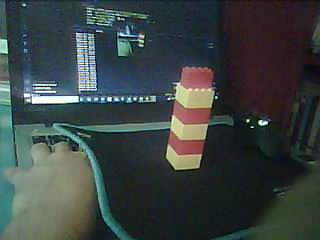lego: (165, 65, 215, 170)
